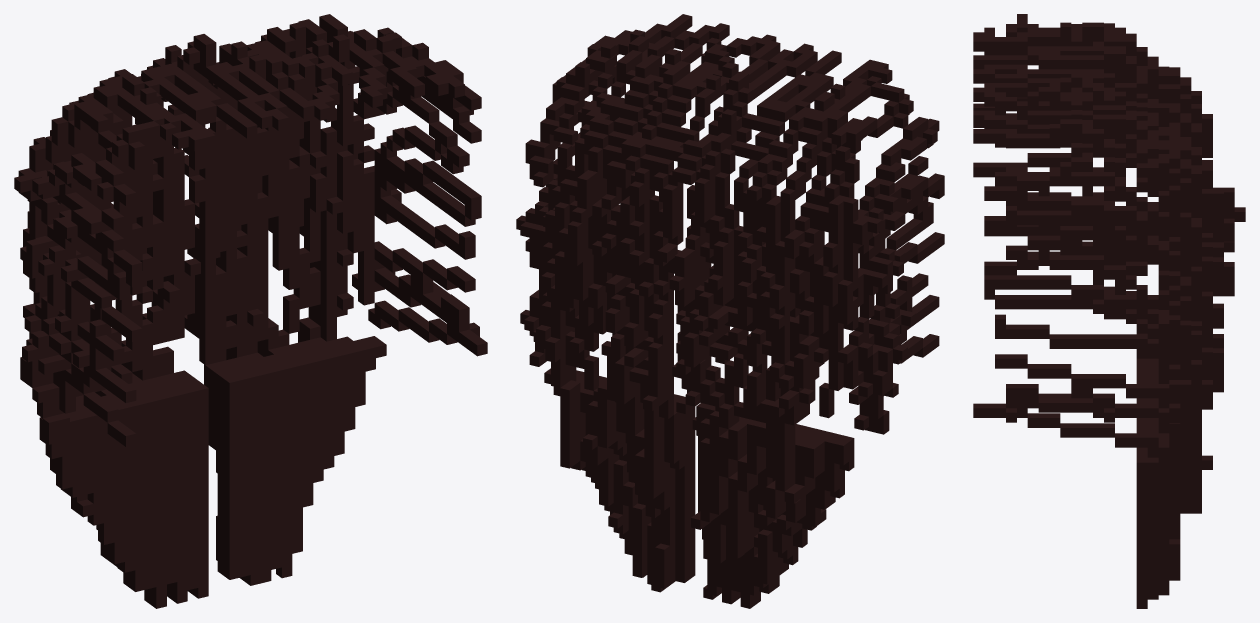
Rendered from humanoid-48.obj.
3 views of the same model, side by side, from view 1: azimuth 30°, elevation 25°; view 2: azimuth 150°, elevation 25°; view 3: azimuth 270°, elevation 25° (orthographic). The views are drawn at different scales.
Visible parts, largest first — view 1: humanoid-48; view 2: humanoid-48; view 3: humanoid-48.
Part boxes in pixels (x1,y1,x2,y2): humanoid-48: (14,14,487,608); humanoid-48: (516,14,944,608); humanoid-48: (973,14,1245,608).
Size of the model in its own units: 39 by 52 by 25.
Materials: 1 (1 with a texture image).
